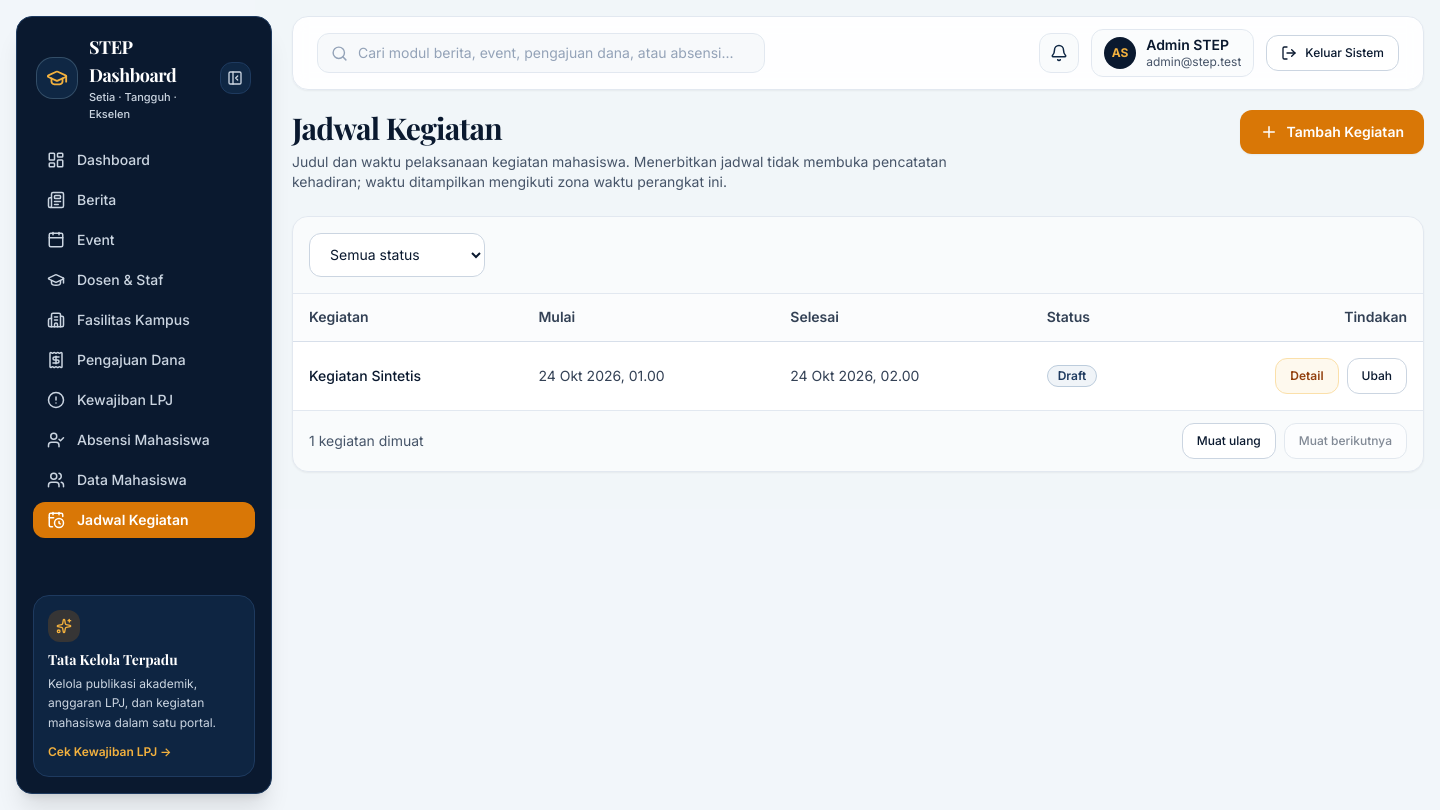
Klien jadwal kegiatan: daftar dan filter status › menampilkan status kegiatan dan mengirim filter status ke query
Check: the text "Kegiatan Sintetis" is shown, box x1=293 y1=342 x2=522 y2=410
Check: the text "Draft" is shown, box x1=1047 y1=365 x2=1097 y2=387
Select "Dibuka" in the dropdown named "Filter status kegiatan" at (397,254), box x1=309 y1=232 x2=485 y2=276
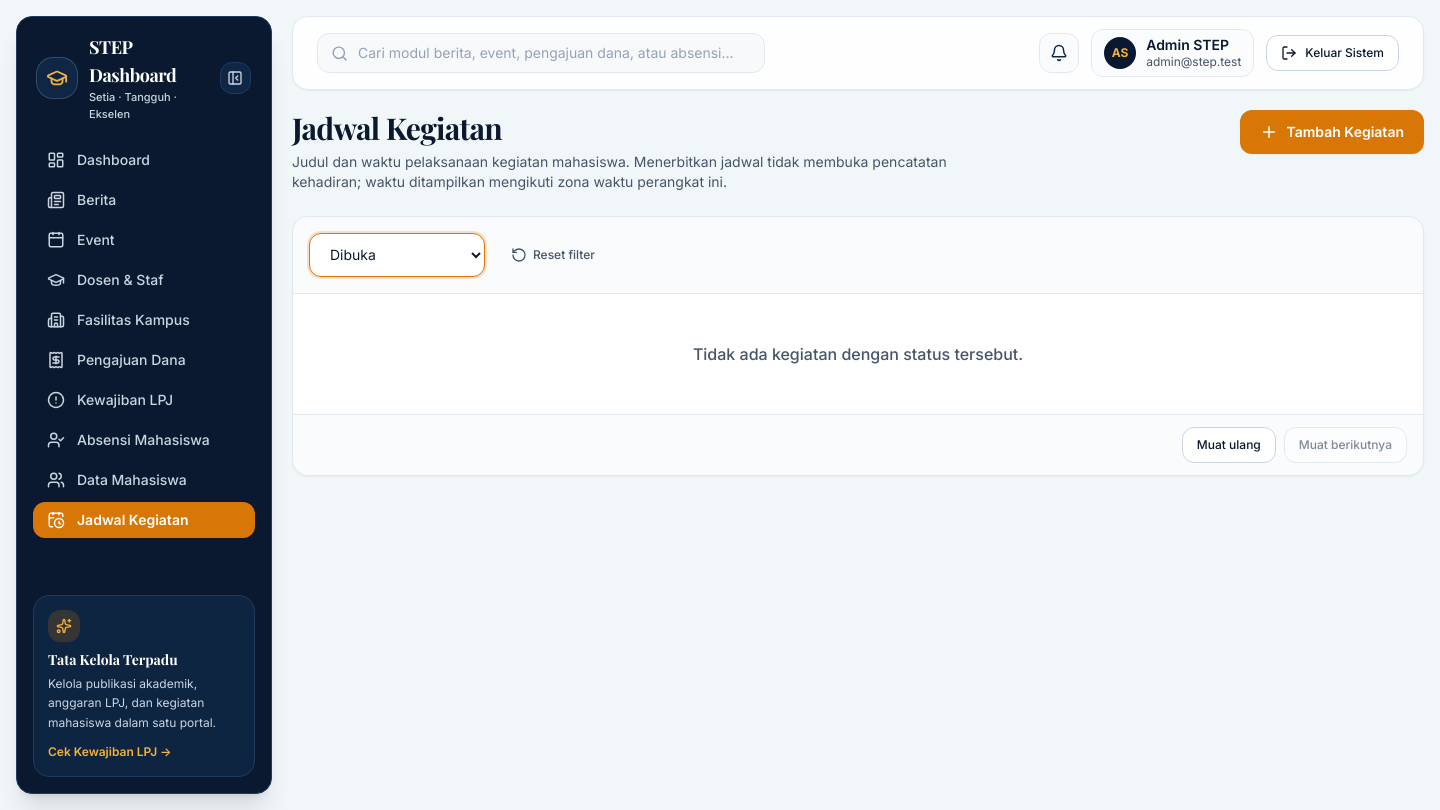
Check: the text "Tidak ada kegiatan dengan status tersebut." is shown, box x1=693 y1=344 x2=1023 y2=364
